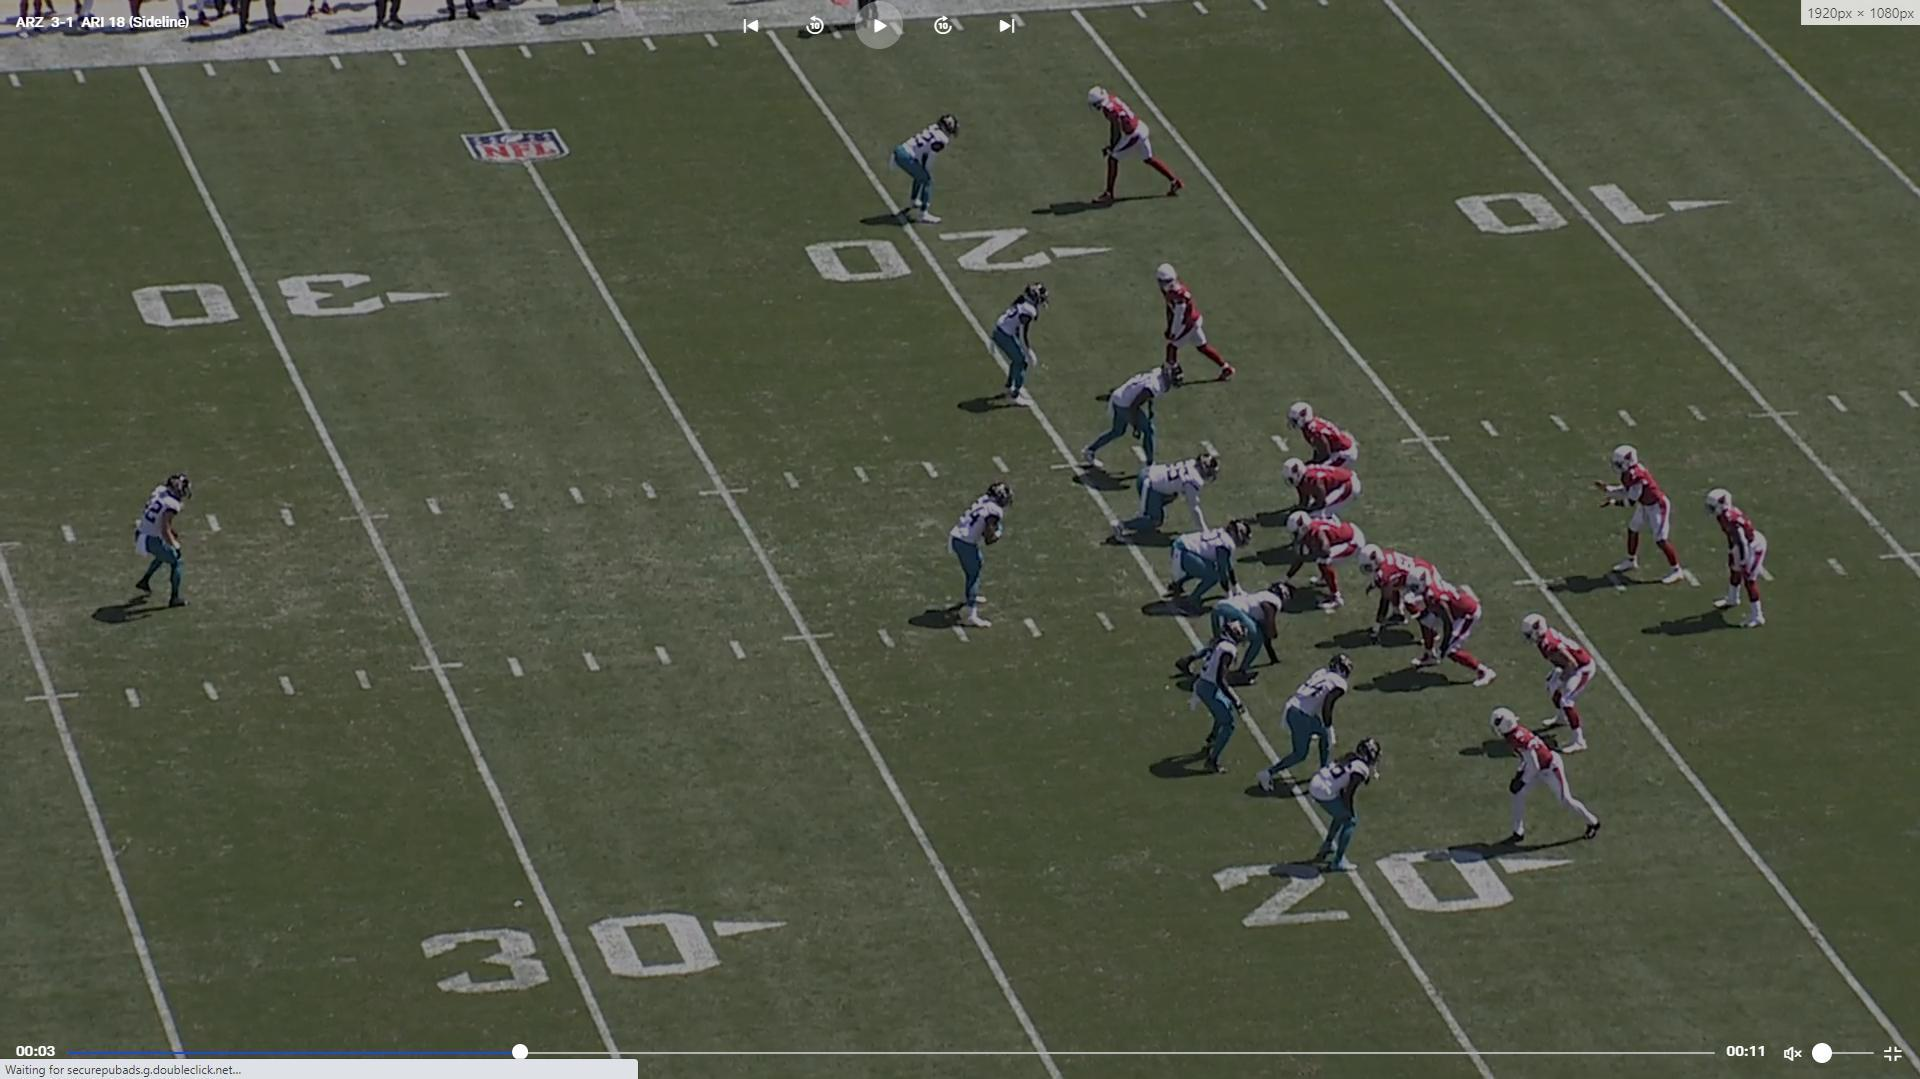defense: (1254, 651, 1355, 794), (1171, 579, 1292, 683), (1096, 448, 1214, 548), (1071, 360, 1173, 473), (1194, 621, 1263, 777), (1301, 742, 1378, 879), (949, 477, 1016, 634), (1146, 526, 1256, 618), (133, 467, 200, 616), (896, 111, 964, 232), (998, 281, 1056, 410)
oline: (1411, 561, 1498, 689), (1287, 510, 1370, 612), (1360, 541, 1439, 646), (1285, 399, 1359, 467), (1278, 459, 1355, 521)
qb: (1593, 439, 1686, 591)
skill: (1483, 710, 1605, 856), (1083, 80, 1192, 202), (1146, 254, 1240, 393), (1521, 608, 1603, 756), (1700, 480, 1771, 630)
